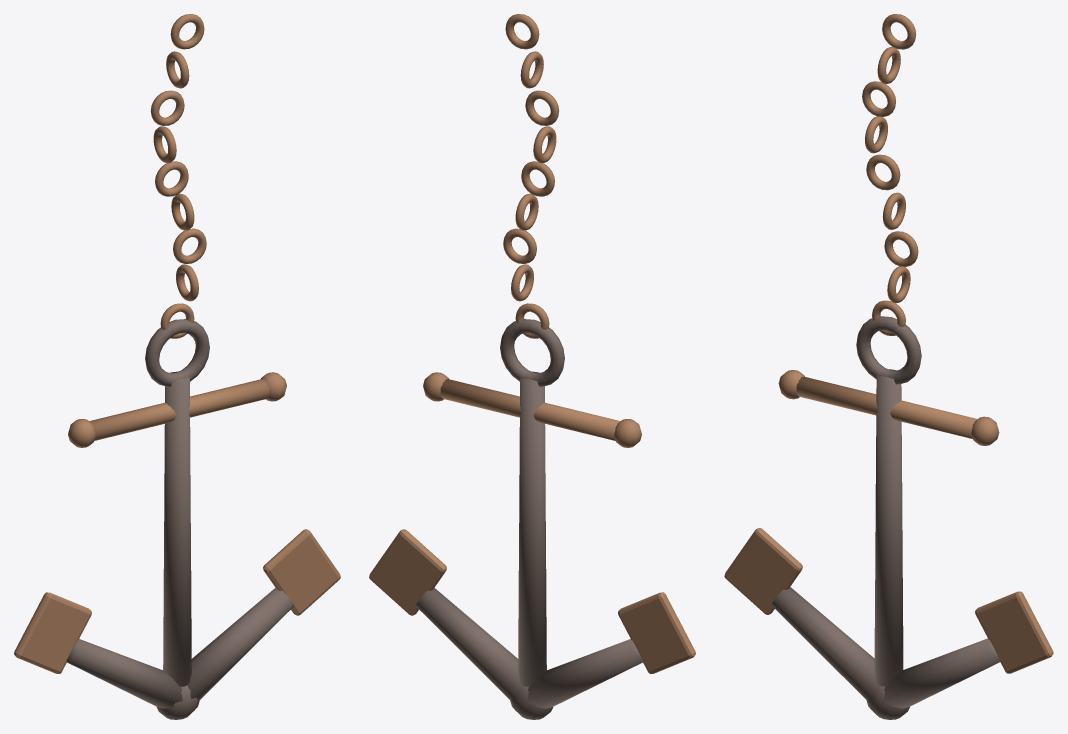
Rendered from anchor.glb.
3 renders of one model, left to right at view 1: azimuth 30°, elevation 25°; view 2: azimuth 150°, elevation 25°; view 3: azimuth 330°, elevation 25°, orthographic.
Visible parts, largest first — view 1: anchor; view 2: anchor; view 3: anchor.
Boxes of the visible parts, box(x1,y1,x2,y2) form: anchor: box(14, 14, 340, 719); anchor: box(369, 14, 695, 719); anchor: box(724, 14, 1053, 719).
Bounding box in the file's own units: 2.56 × 5.28 × 0.28.
